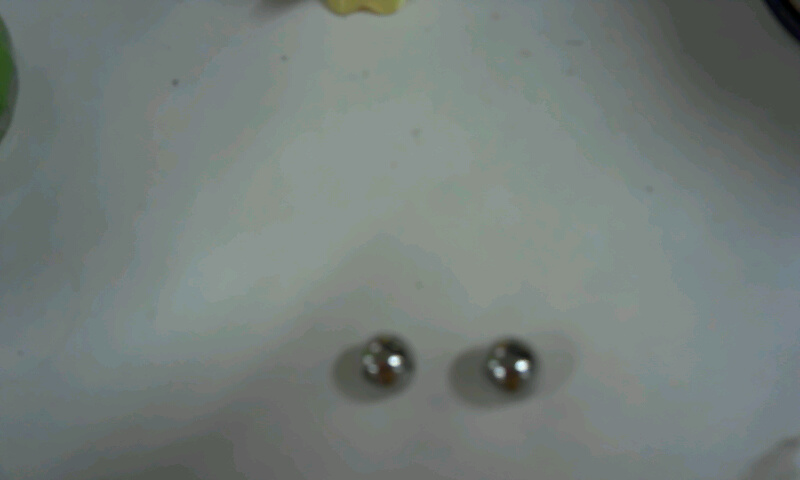steelball: (477, 331, 552, 408), (356, 326, 424, 402)
